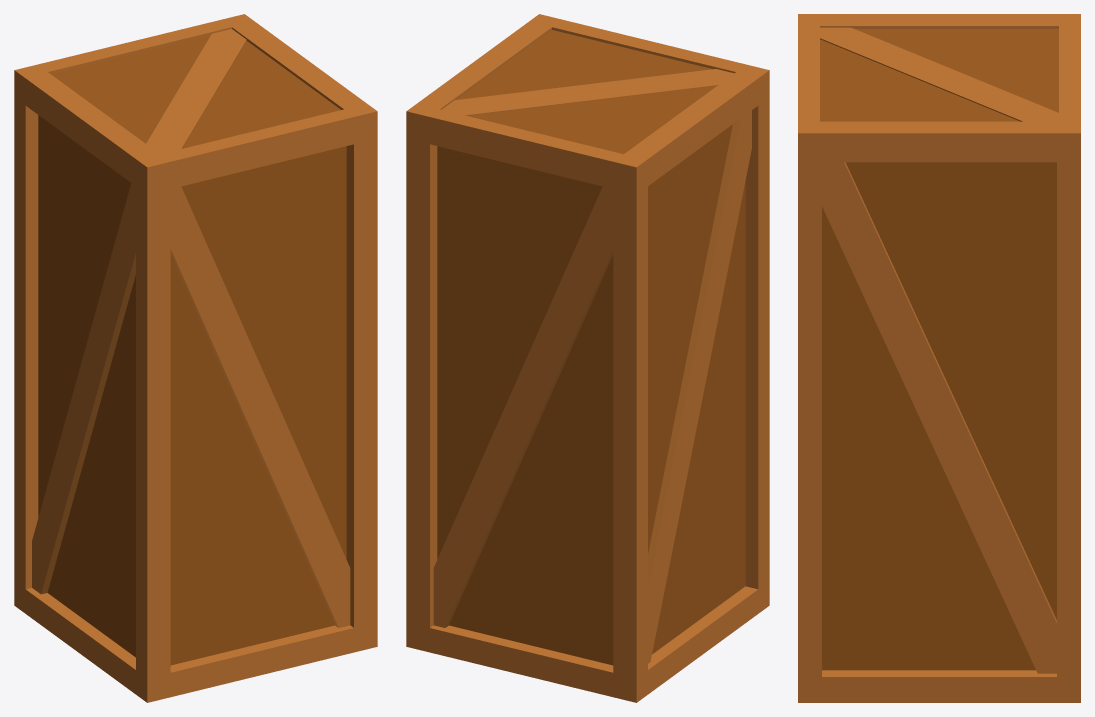
3 views of the same model, side by side, from view 1: azimuth 30°, elevation 25°; view 2: azimuth 150°, elevation 25°; view 3: azimuth 270°, elevation 25° (orthographic). The views are drawn at different scales.
Parts seen in each view (by area): view 1: Box2; view 2: Box2; view 3: Box2.
Part boxes in pixels (x1,y1,x2,y2): Box2: (14,14,377,702); Box2: (406,14,769,702); Box2: (798,14,1080,702).
Size of the model in its own units: 0.9 by 2 by 0.9.
